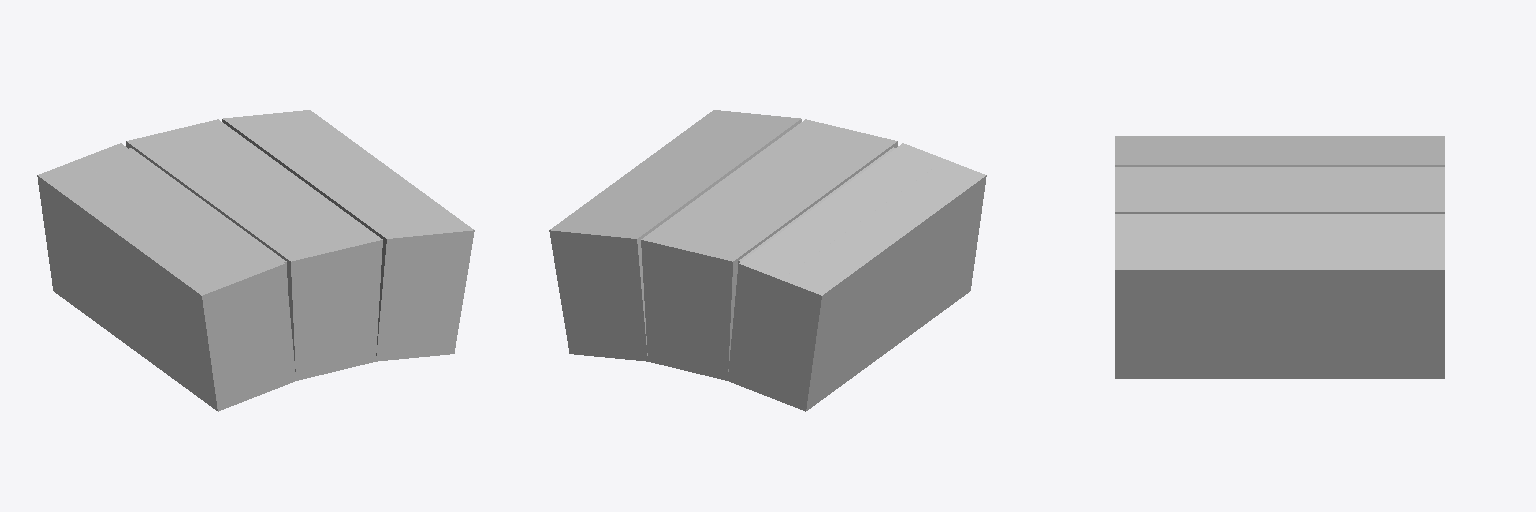
File: generic_segmental_arch_3_middle.obj
The picture shows the model from 3 angles: view 1: azimuth 30°, elevation 25°; view 2: azimuth 150°, elevation 25°; view 3: azimuth 270°, elevation 25°; orthographic projection.
Parts seen in each view (by area): view 1: cube.062, cube.061, cube.060; view 2: cube.062, cube.061, cube.060; view 3: cube.060, cube.061, cube.062.
Part boxes in pixels (x1,y1,x2,y2): cube.062: (37, 143, 295, 411); cube.061: (126, 119, 382, 380); cube.060: (222, 110, 474, 361); cube.062: (728, 143, 986, 411); cube.061: (641, 119, 897, 380); cube.060: (549, 110, 801, 361); cube.060: (1115, 214, 1444, 378); cube.061: (1115, 167, 1444, 213); cube.062: (1115, 136, 1444, 166).
Size of the model in its own units: 1.08 by 0.499 by 1.13.